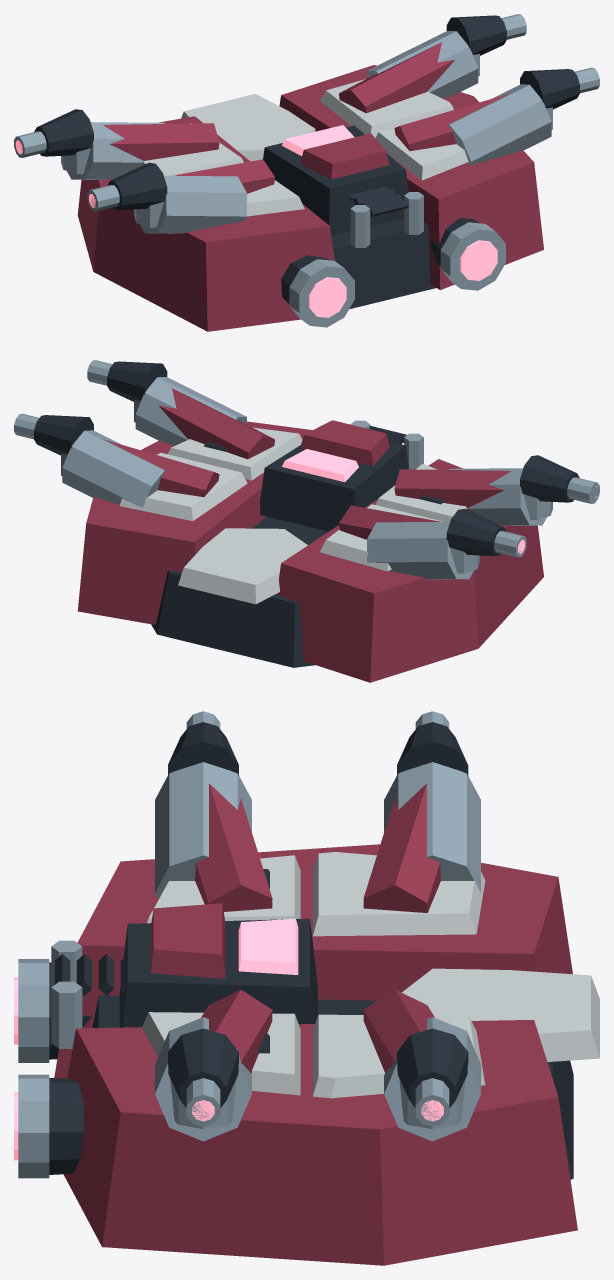
File: c1_broadside.glb
3 renders of one model, top to bottom at view 1: azimuth 30°, elevation 25°; view 2: azimuth 150°, elevation 25°; view 3: azimuth 270°, elevation 25°, orthographic. The views are drawn at different scales.
Parts seen in each view (by area): view 1: c1_broadside / Armor, c1_broadside / Titanium, c1_broadside / Chassis, c1_broadside / Identification, c1_broadside / Energy; view 2: c1_broadside / Armor, c1_broadside / Chassis, c1_broadside / Titanium, c1_broadside / Identification, c1_broadside / Energy; view 3: c1_broadside / Armor, c1_broadside / Titanium, c1_broadside / Identification, c1_broadside / Chassis, c1_broadside / Energy.
Part boxes in pixels (x1,y1,x2,y2): c1_broadside / Armor: (77, 42, 543, 331); c1_broadside / Titanium: (14, 14, 599, 327); c1_broadside / Chassis: (34, 15, 579, 309); c1_broadside / Identification: (142, 79, 468, 216); c1_broadside / Energy: (15, 125, 497, 317); c1_broadside / Armor: (77, 388, 543, 682); c1_broadside / Chassis: (34, 361, 579, 667); c1_broadside / Titanium: (14, 360, 599, 579); c1_broadside / Identification: (119, 427, 466, 604); c1_broadside / Energy: (282, 449, 596, 553); c1_broadside / Armor: (54, 783, 577, 1265); c1_broadside / Titanium: (18, 711, 480, 1178); c1_broadside / Identification: (142, 852, 599, 1098); c1_broadside / Chassis: (49, 722, 573, 1179); c1_broadside / Energy: (14, 918, 443, 1160).
Size of the model in its own units: 2.06 by 0.605 by 1.33.
